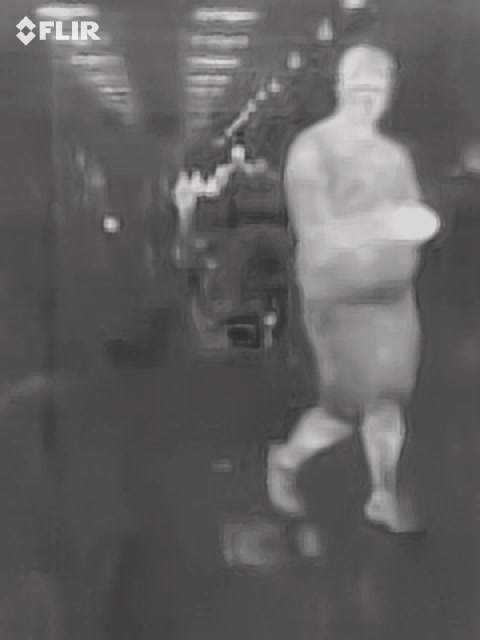head: (332, 44, 397, 120)
